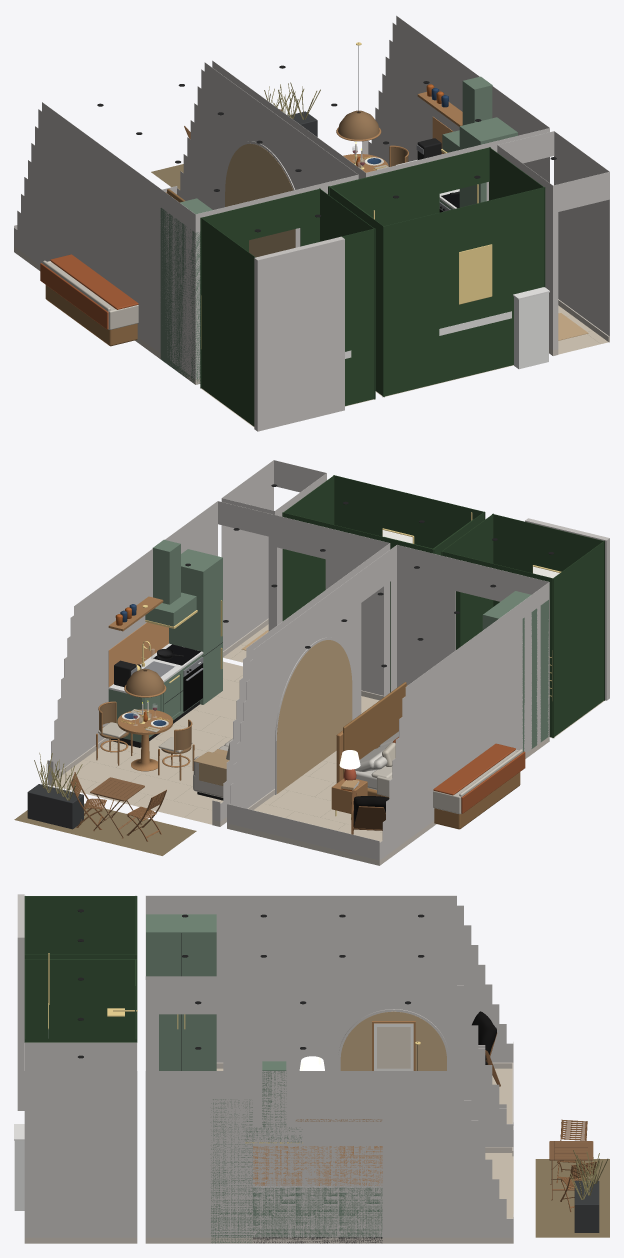
The model's file is unit-2.A-riviera.glb.
3 renders of one model, top to bottom at view 1: azimuth 30°, elevation 25°; view 2: azimuth 150°, elevation 25°; view 3: azimuth 270°, elevation 25°, orthographic. The views are drawn at different scales.
Parts seen in each view (by area): view 1: int-wall, int-bathWall, int-joineryTall, int-feature, int-bedThrow, int-whiteGloss, int-metal, int-joinery, int-headboard, int-showerWall, int-duvet, int-worktop (+5 smaller); view 2: int-wall, int-bathWall, int-floor, int-feature, int-joineryTall, int-joinery, int-headboard, int-deck, int-wood, int-bedThrow, int-skirting, int-outdoor (+17 smaller); view 3: int-wall, int-joineryTall, int-bathWall, int-showerWall, int-joinery, int-deck, int-skirting, int-feature, int-splash, int-floor, int-art:7:0, int-outdoor (+10 smaller).
Boxes of the visible parts, x1,y1,x2,y2 form: int-wall: (14, 15, 609, 431); int-bathWall: (200, 147, 545, 426); int-joineryTall: (160, 117, 517, 384); int-feature: (225, 143, 295, 257); int-bedThrow: (40, 254, 138, 329); int-whiteGloss: (514, 292, 548, 369); int-metal: (201, 42, 492, 348); int-joinery: (439, 76, 492, 209); int-headboard: (45, 189, 184, 346); int-showerWall: (328, 174, 383, 225); int-duvet: (43, 260, 138, 329); int-worktop: (345, 159, 549, 358); int-wall: (47, 460, 609, 860); int-bathWall: (282, 475, 604, 737); int-floor: (54, 661, 382, 842); int-feature: (276, 640, 352, 793); int-joineryTall: (169, 549, 548, 751); int-joinery: (108, 539, 202, 742); int-headboard: (343, 682, 520, 829); int-deck: (14, 803, 196, 855); int-wood: (108, 596, 407, 813); int-bedThrow: (433, 743, 525, 813); int-skirting: (47, 618, 549, 865); int-outdoor: (27, 784, 83, 829); int-wall: (17, 894, 513, 1237); int-joineryTall: (146, 914, 252, 1243); int-bathWall: (24, 896, 137, 1042); int-showerWall: (48, 959, 137, 1038); int-joinery: (246, 1061, 382, 1237); int-deck: (535, 1159, 609, 1237); int-skirting: (24, 1062, 513, 1243); int-feature: (340, 1011, 446, 1070); int-splash: (253, 1146, 382, 1185); int-floor: (216, 1068, 513, 1218); int-art:7:0: (377, 1027, 410, 1068); int-outdoor: (574, 1180, 599, 1232).
Size of the model in its own units: 6.37 by 2.8 by 8.41.
